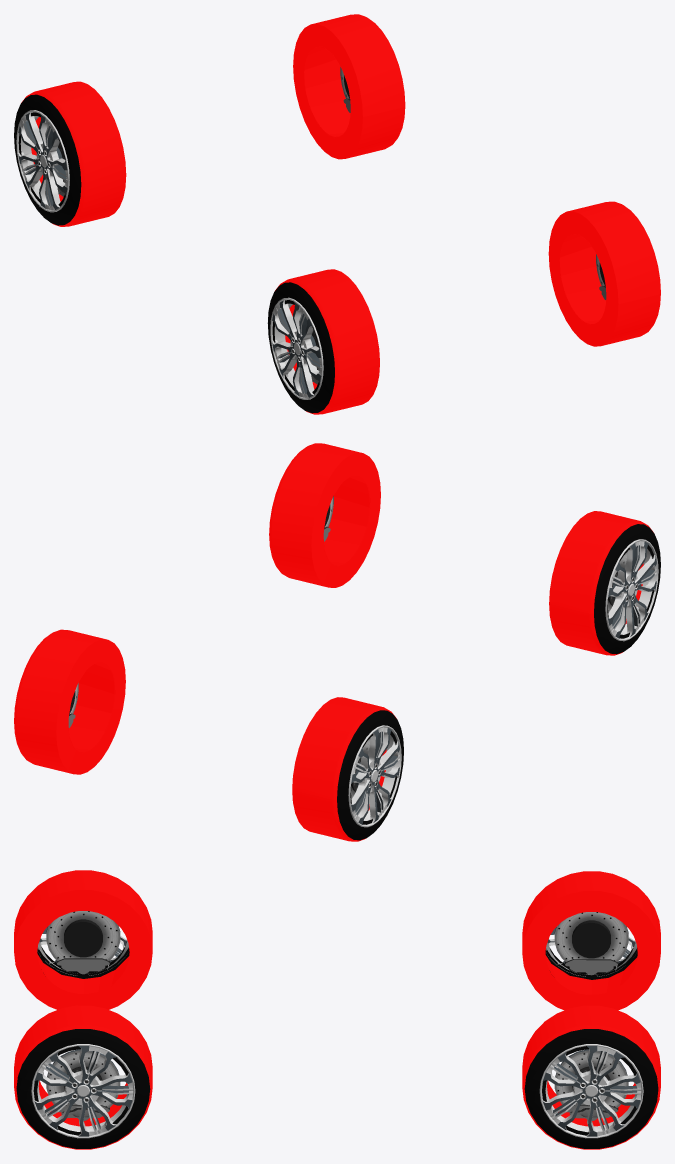
File: 03 Ferrari_F8_Tributo.fbx
3 views of the same model, one above another, from view 1: azimuth 30°, elevation 25°; view 2: azimuth 150°, elevation 25°; view 3: azimuth 270°, elevation 25° (orthographic).
Visible parts, largest first — view 1: Tire__4_, Tire__1_, Tire__2_, Tire__3_, Rims__2_, Rims__3_; view 2: Tire__4_, Tire__1_, Tire__3_, Tire__2_, Rims__2_, Rims__3_; view 3: Tire__2_, Tire__3_, Tire__4_, Tire__1_, Rims__4_, Rims__1_, BrakeDisc_1, BrakeDisc_3, BrakeDisc, BrakeDisc_2, Caliper_1, Caliper_3 (+2 smaller).
Boxes of the visible parts, x1,y1,x2,y2 form: Tire__4_: (293, 14, 405, 159); Tire__1_: (548, 201, 660, 346); Tire__2_: (267, 269, 379, 414); Tire__3_: (14, 81, 126, 226); Rims__2_: (270, 297, 323, 399); Rims__3_: (16, 110, 69, 212); Tire__4_: (14, 629, 125, 774); Tire__1_: (269, 443, 380, 587); Tire__3_: (292, 697, 403, 841); Tire__2_: (549, 511, 660, 655); Rims__2_: (605, 539, 658, 641); Rims__3_: (348, 725, 401, 827); Tire__2_: (14, 870, 152, 1009); Tire__3_: (522, 871, 660, 1010); Tire__4_: (522, 1005, 660, 1149); Tire__1_: (14, 1005, 152, 1149); Rims__4_: (539, 1044, 643, 1138); Rims__1_: (31, 1044, 135, 1138); BrakeDisc_1: (46, 911, 120, 960); BrakeDisc_3: (554, 912, 628, 961); BrakeDisc: (46, 1049, 120, 1107); BrakeDisc_2: (554, 1049, 628, 1107); Caliper_1: (56, 958, 109, 974); Caliper_3: (565, 959, 618, 975).
Size of the model in its own units: 189 by 66.52 by 313.
